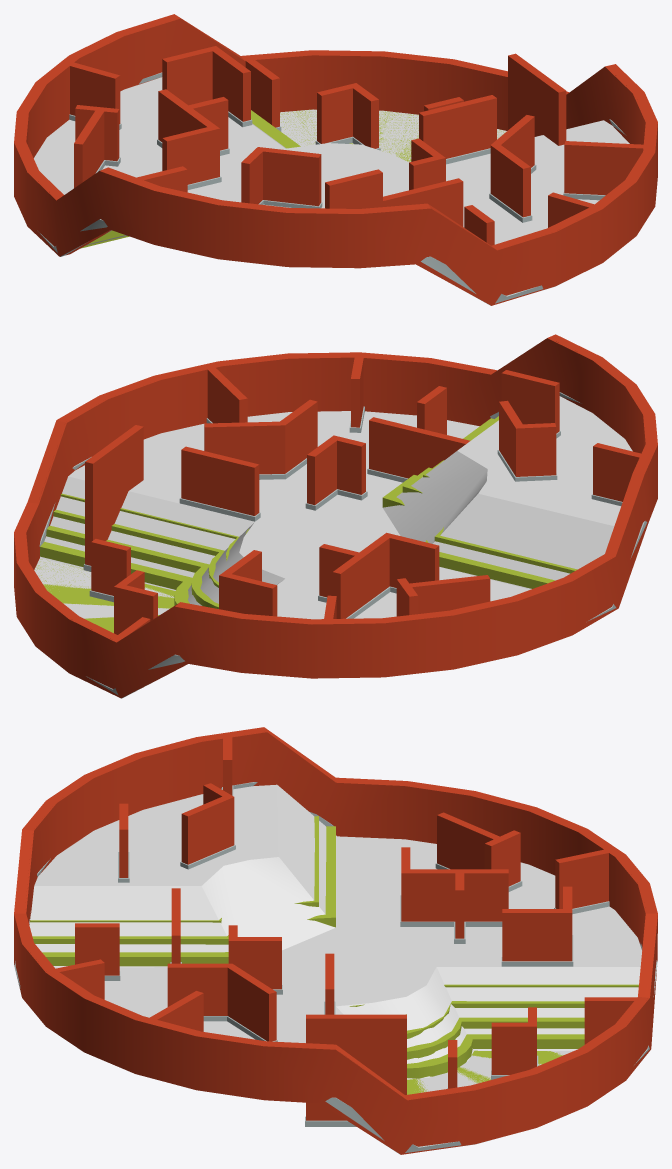
File: Location13.fbx
The picture shows the model from 3 angles, top to bottom: view 1: azimuth 30°, elevation 25°; view 2: azimuth 150°, elevation 25°; view 3: azimuth 270°, elevation 25°; orthographic projection.
Parts seen in each view (by area): view 1: outer_wall.13, wall.13, outer_no_stripes.13, floor.13; view 2: outer_wall.13, wall.13, outer_no_stripes.13, floor.13; view 3: outer_no_stripes.13, outer_wall.13, wall.13, floor.13.
Part boxes in pixels (x1=…): outer_wall.13: x1=14, y1=14, x2=657, y2=305; wall.13: x1=15, y1=16, x2=656, y2=305; outer_no_stripes.13: x1=34, y1=77, x2=629, y2=245; floor.13: x1=80, y1=109, x2=505, y2=248; outer_wall.13: x1=14, y1=334, x2=657, y2=698; wall.13: x1=15, y1=336, x2=653, y2=698; outer_no_stripes.13: x1=34, y1=396, x2=632, y2=619; floor.13: x1=35, y1=416, x2=577, y2=632; outer_no_stripes.13: x1=29, y1=784, x2=641, y2=1092; outer_wall.13: x1=14, y1=727, x2=657, y2=1154; wall.13: x1=14, y1=729, x2=657, y2=1154; floor.13: x1=30, y1=816, x2=638, y2=1094.
Size of the model in its own units: 1975 by 549 by 1975.
